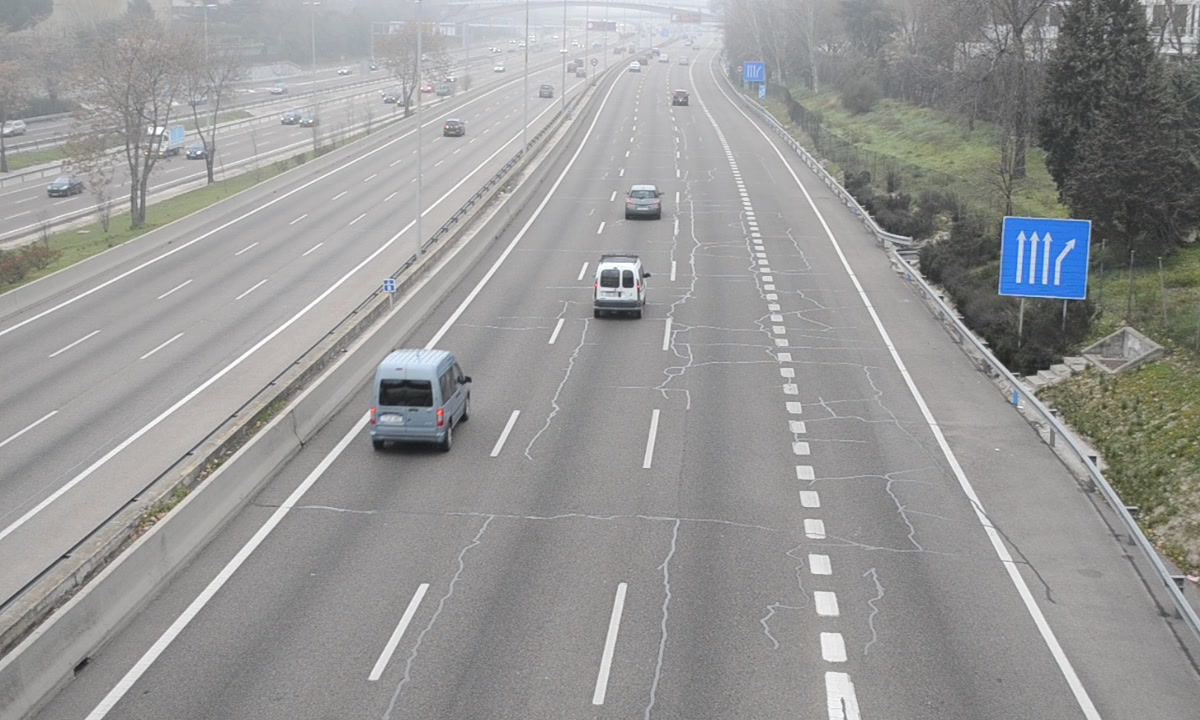car: (623, 184, 663, 222)
van: (368, 350, 467, 445), (593, 259, 647, 315)
